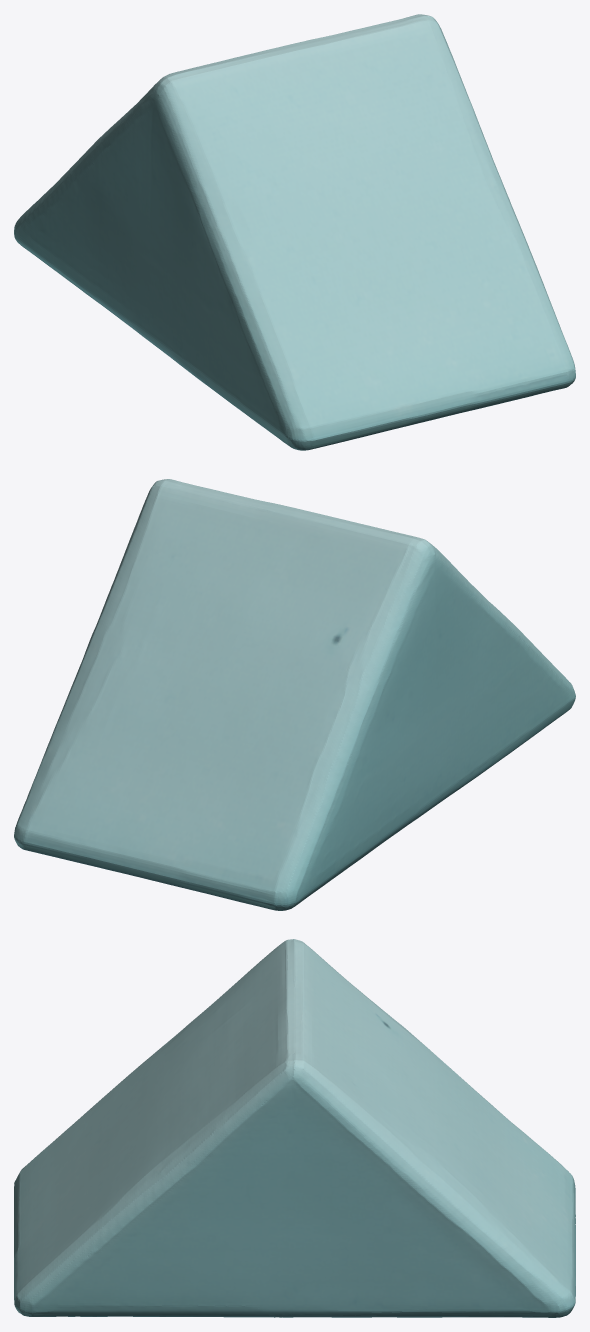
File: obj3_sam3d.glb
3 views of the same model, one above another, from view 1: azimuth 30°, elevation 25°; view 2: azimuth 150°, elevation 25°; view 3: azimuth 270°, elevation 25° (orthographic). The views are drawn at different scales.
Visible parts, largest first — view 1: world; view 2: world; view 3: world.
Boxes of the visible parts, <box> form: world: <box>14,14,575,450</box>; world: <box>14,479,575,910</box>; world: <box>14,939,575,1317</box>.
Bounding box in the file's own units: 0.5687 × 0.509 × 0.9989.
